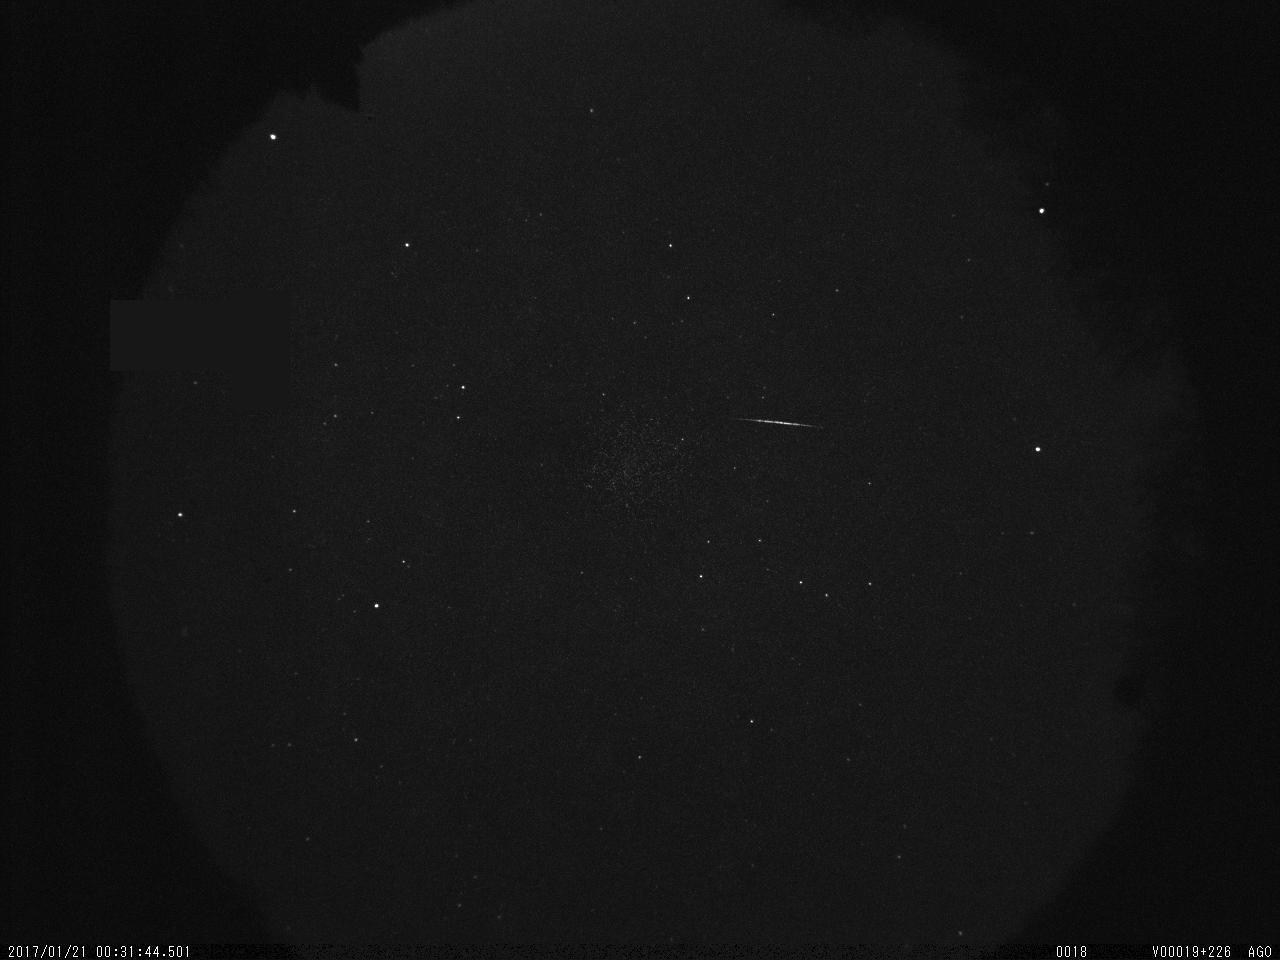meteor: (715, 394, 835, 452)
